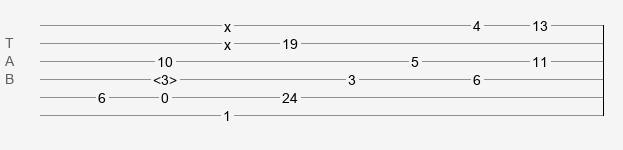0: (161, 90, 169, 100)
1: (223, 108, 231, 118)
10: (157, 54, 173, 64)
11: (532, 54, 548, 64)
13: (532, 18, 548, 28)
19: (282, 36, 298, 46)
24: (282, 90, 298, 100)
3: (348, 72, 356, 82)
4: (473, 18, 481, 28)
5: (411, 54, 419, 64)
6: (98, 90, 106, 100), (473, 72, 481, 82)
harmonic: (153, 72, 177, 82)
x: (224, 37, 231, 45), (224, 19, 231, 27)
